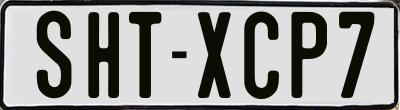7: (339, 11, 374, 100)
C: (242, 10, 283, 103)
H: (86, 11, 119, 99)
P: (291, 9, 332, 98)
S: (34, 9, 75, 98)
T: (129, 10, 164, 98)
X: (198, 12, 232, 102)
